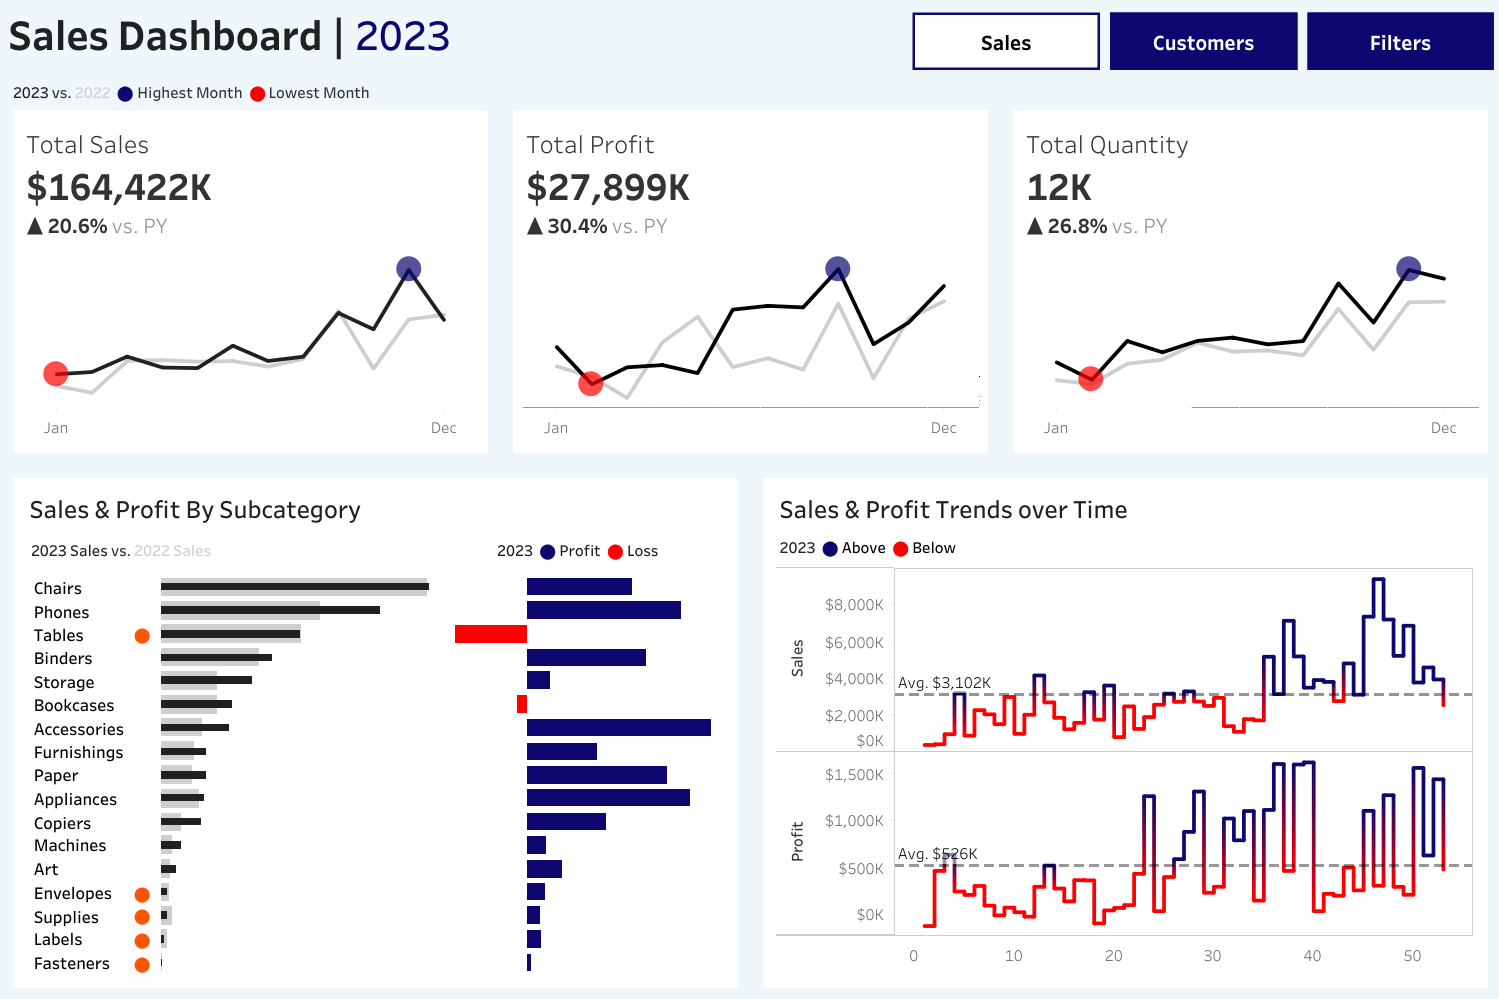

What the dashboard file says about the page in this screenshot:
{"tool":"tableau","page":{"name":"Sales Dashboard","canvas":[1200,800],"ordinal":1},"visuals":[{"type":"text","box":[0,0,1200,59]},{"type":"dashboard-object","box":[726,6,158,54]},{"type":"dashboard-object","box":[884,6,158,54]},{"type":"dashboard-object","box":[1042,6,157,54]},{"type":"blank","box":[892,10,297,86]},{"type":"worksheet","title":"Legend KPI","mark":"Automatic","box":[0,59,1200,29]},{"type":"worksheet","title":"KPI Sales","mark":"Automatic","rows":["Calculation_721701895347843083"],"cols":["Order Date"],"box":[0,88,400,284]},{"type":"worksheet","title":"KPI Profit","mark":"Automatic","rows":["Min/Max Sales (copy)_237846410425847814"],"cols":["Order Date"],"box":[400,88,400,284]},{"type":"worksheet","title":"KPI Quantity","mark":"Automatic","rows":["Min/Max Sales (copy) (copy)_237846410425856007"],"cols":["Order Date"],"box":[800,88,400,284]},{"type":"text","box":[892,96,297,40]},{"type":"parameter","param":"[Parameters].[Parameter 1]","box":[892,136,297,56]},{"type":"text","box":[892,192,297,33]},{"type":"filter","title":"KPI Sales","param":"[federated.1kpxa041aiai2y1cl4pui1t4eju9].[none:Category:nk]","box":[892,225,297,61]},{"type":"filter","title":"KPI Sales","param":"[federated.1kpxa041aiai2y1cl4pui1t4eju9].[none:Sub-Category:nk]","box":[892,286,297,61]},{"type":"blank","box":[892,347,297,60]},{"type":"text","box":[17,389,566,40]},{"type":"text","box":[617,389,566,40]},{"type":"text","box":[892,407,297,33]},{"type":"worksheet","title":"Legend Subcategory","mark":"Automatic","box":[17,429,374,32]},{"type":"text","box":[391,429,192,32]},{"type":"text","box":[617,429,566,29]},{"type":"filter","title":"KPI Sales","param":"[federated.1kpxa041aiai2y1cl4pui1t4eju9].[none:Region:nk]","box":[892,440,297,61]},{"type":"worksheet","title":"Weekly Trends","mark":"Automatic","rows":["Calculation_721701895334993921","CY Sales (copy)_237846410424180736"],"cols":["Order Date"],"box":[617,458,566,325]},{"type":"worksheet","title":"Subcategory Comparison","mark":"Bar","rows":["Sub-Category","Calculation_2435040078806671369"],"cols":["CY Sales (copy)_721701895335804930","Calculation_721701895334993921","CY Sales (copy)_237846410424180736"],"box":[17,461,566,321.9]},{"type":"filter","title":"KPI Sales","param":"[federated.1kpxa041aiai2y1cl4pui1t4eju9].[none:State:nk]","box":[892,501,297,61]},{"type":"filter","title":"KPI Sales","param":"[federated.1kpxa041aiai2y1cl4pui1t4eju9].[none:City:nk]","box":[892,562,297,61]}]}

Visuals, with their boxes in screenshot pixels (x1, y1, x2, y2), scaled from the page's 1200x800 canvas onto the 1499x999 screenshot:
text: <region>0, 0, 1498, 74</region>
dashboard-object: <region>907, 7, 1104, 75</region>
dashboard-object: <region>1104, 7, 1302, 75</region>
dashboard-object: <region>1302, 7, 1498, 75</region>
blank: <region>1114, 12, 1485, 120</region>
"Legend KPI" worksheet: <region>0, 74, 1498, 110</region>
"KPI Sales" worksheet: <region>0, 110, 500, 465</region>
"KPI Profit" worksheet: <region>500, 110, 999, 465</region>
"KPI Quantity" worksheet: <region>999, 110, 1498, 465</region>
text: <region>1114, 120, 1485, 170</region>
parameter: <region>1114, 170, 1485, 240</region>
text: <region>1114, 240, 1485, 281</region>
"KPI Sales" filter: <region>1114, 281, 1485, 357</region>
"KPI Sales" filter: <region>1114, 357, 1485, 433</region>
blank: <region>1114, 433, 1485, 508</region>
text: <region>21, 486, 728, 536</region>
text: <region>771, 486, 1478, 536</region>
text: <region>1114, 508, 1485, 549</region>
"Legend Subcategory" worksheet: <region>21, 536, 488, 576</region>
text: <region>488, 536, 728, 576</region>
text: <region>771, 536, 1478, 572</region>
"KPI Sales" filter: <region>1114, 549, 1485, 626</region>
"Weekly Trends" worksheet: <region>771, 572, 1478, 978</region>
"Subcategory Comparison" worksheet (Bar marks): <region>21, 576, 728, 978</region>
"KPI Sales" filter: <region>1114, 626, 1485, 702</region>
"KPI Sales" filter: <region>1114, 702, 1485, 778</region>
